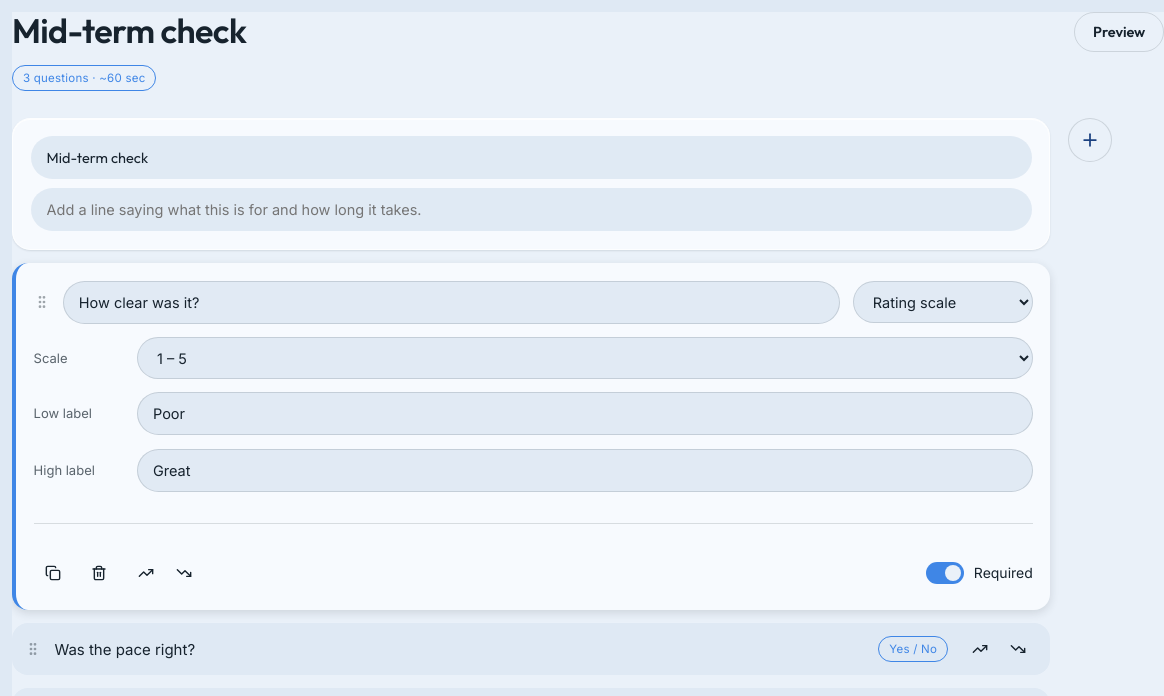
Test: the header carries the live cost and the save state › shows the question count and time, and updates as questions are added
The width and height of the screenshot is (1164, 696).
Expected: the text "3 questions · ~60 sec" is shown, [12,65,156,91]
Step 1. Click the 1st button named "Add question" → {"x": 1090, "y": 140}, box [1068,118,1112,162]
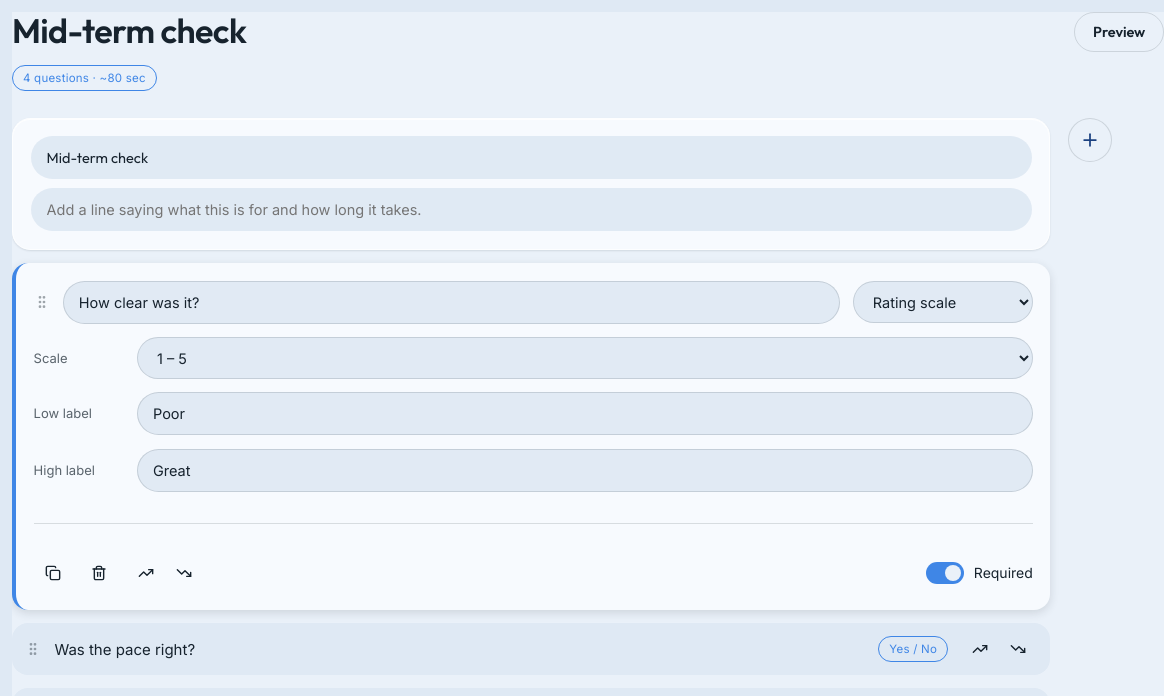
Expected: the text "4 questions · ~80 sec" is shown, [12,65,157,91]
